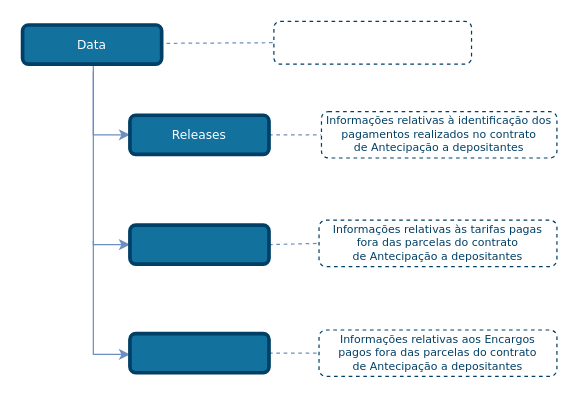
The diagram is 578 pixels wide and 398 high, and some of its shapes have lost their labels. Each missing label, with the box of its shape:
Charges over Parcel: (127, 223, 270, 265)
Conjunto de informações dos Pagamentos do contrato de Antecipação a depositantes: (273, 20, 472, 64)
Taxes over Parcel: (127, 331, 270, 374)
